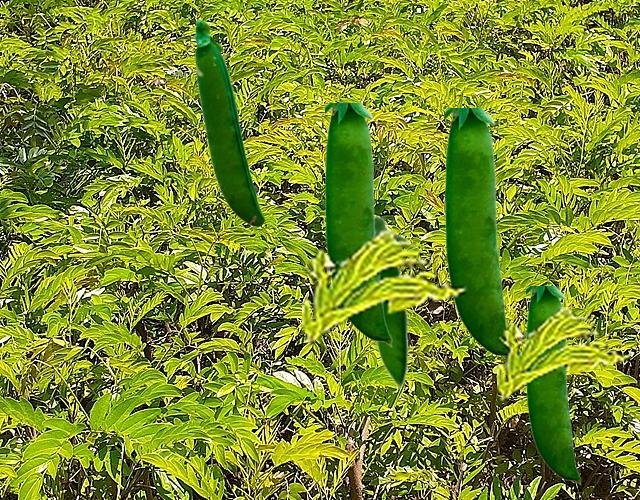pea: (325, 103, 391, 346), (445, 108, 507, 357), (193, 18, 264, 226), (526, 286, 580, 484), (374, 214, 408, 392)
